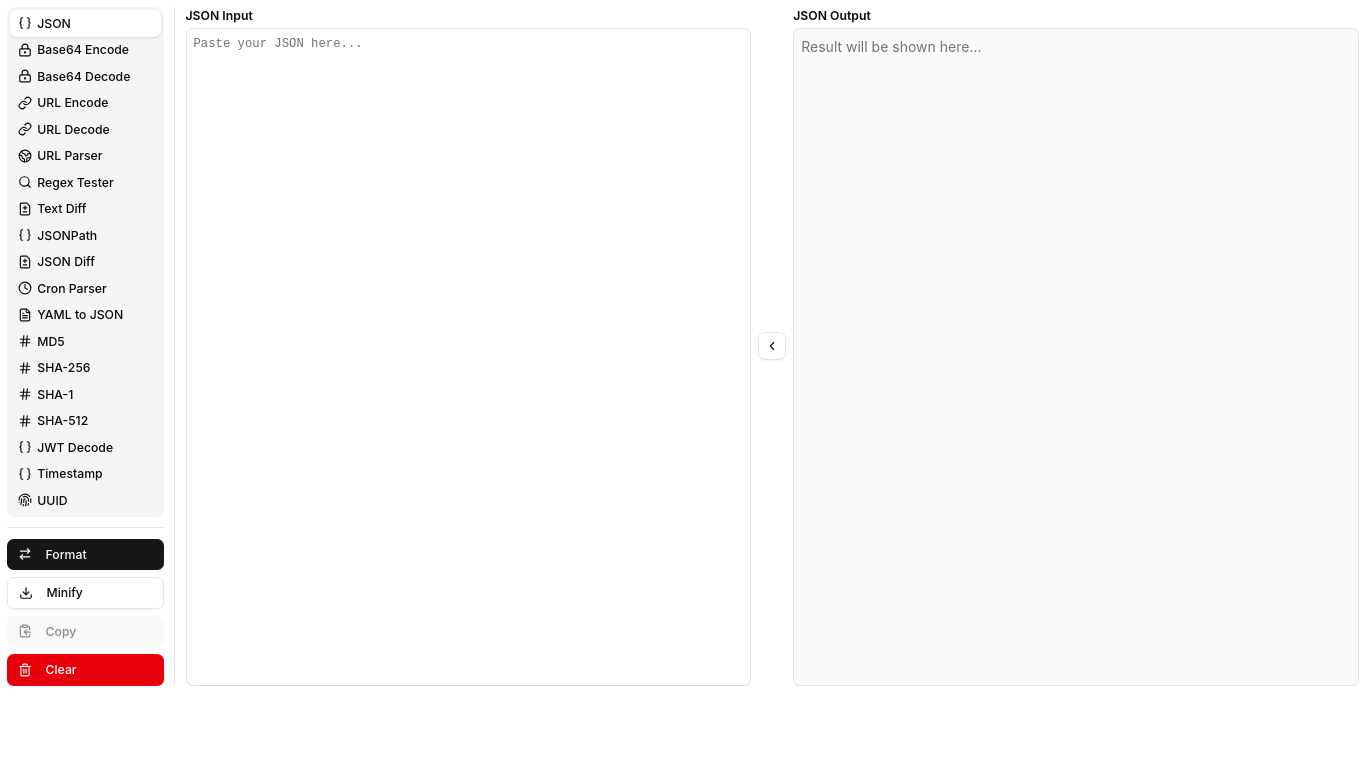
Test: JsonToolsView text tools › keeps tool actions outside the scrolling tool list
Expected: the element with test id "tool-action-panel" shows "Format", [7, 538, 164, 570]
What coordinates should you click on to do the following:
click the tab "Cron Parser"
I would click on:
 (85, 288)
Its box is [10, 275, 160, 302].
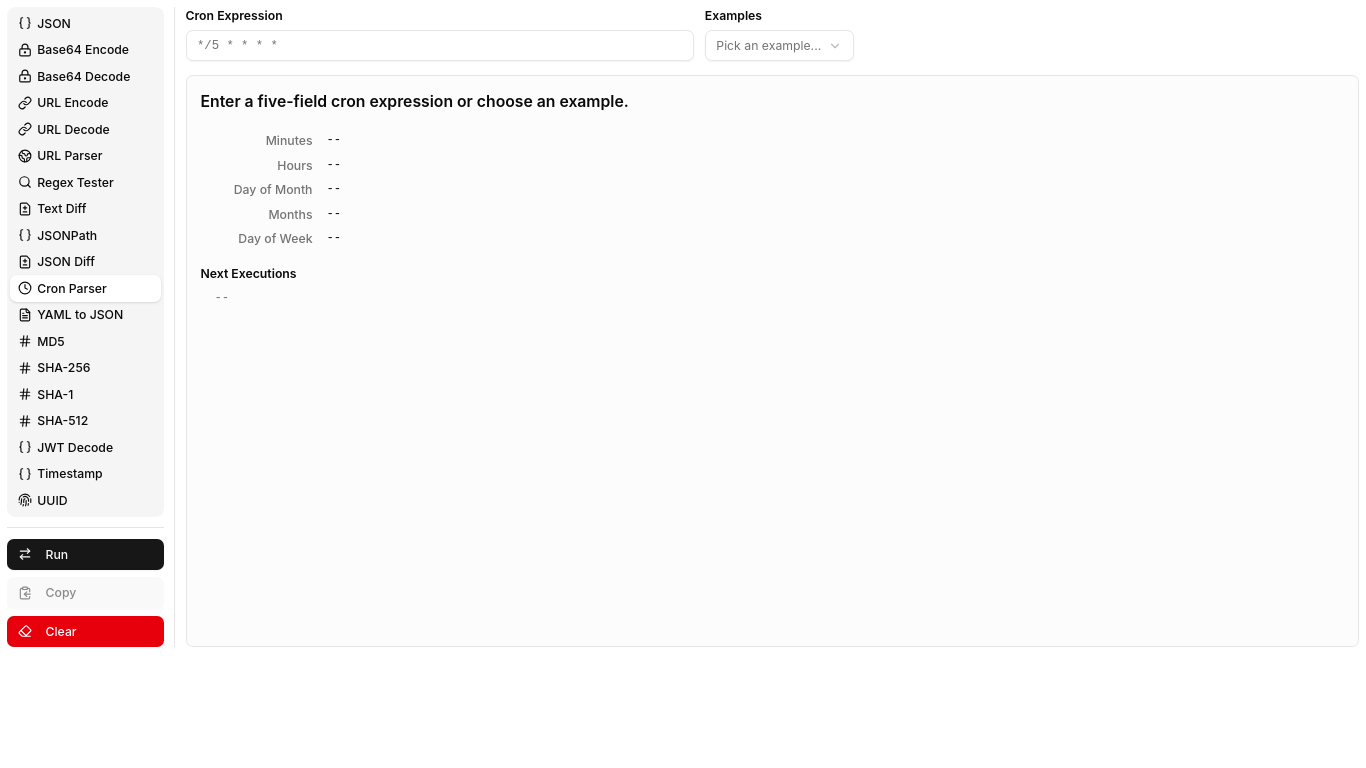
Expected: the element with test id "tool-action-panel" shows "Run", [7, 538, 164, 570]
